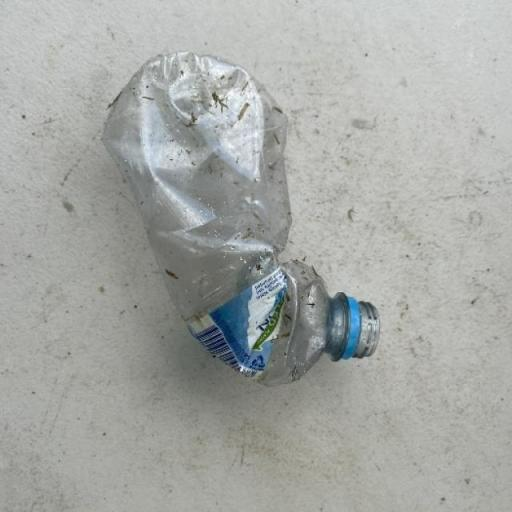plastic: (100, 50, 380, 387)
